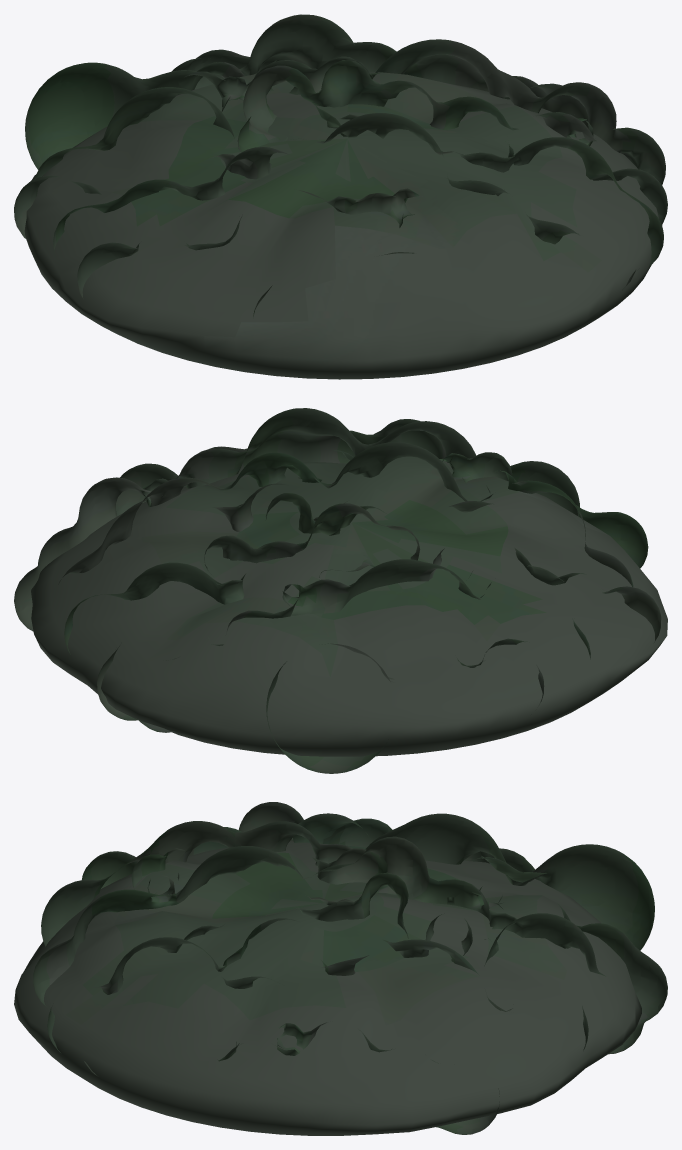
Rendered from maganese.gltf.
3 renders of one model, top to bottom at view 1: azimuth 30°, elevation 25°; view 2: azimuth 150°, elevation 25°; view 3: azimuth 270°, elevation 25°, orthographic. The views are drawn at different scales.
Parts seen in each view (by area): view 1: Sphere; view 2: Sphere; view 3: Sphere.
Boxes of the visible parts, x1,y1,x2,y2 form: Sphere: [14, 14, 667, 379]; Sphere: [14, 408, 667, 773]; Sphere: [14, 802, 667, 1135].
Bounding box in the file's own units: 2.1 × 0.7348 × 2.12.
Materials: 1 (1 with a texture image).
